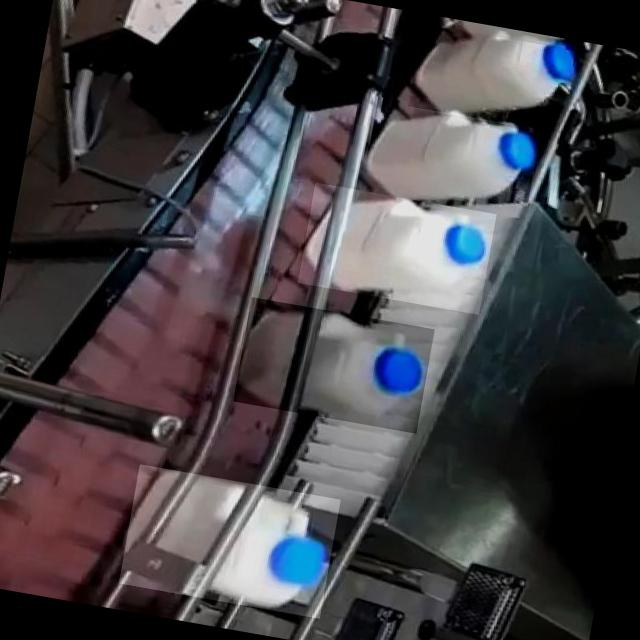milk: (122, 462, 346, 623), (230, 290, 437, 442), (300, 181, 500, 325), (361, 94, 547, 214), (409, 22, 576, 134)
